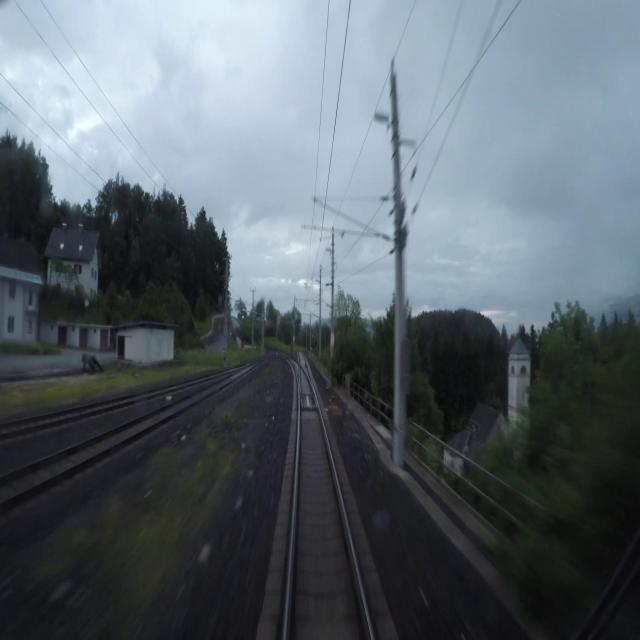rail-track: (287, 370, 370, 639)
